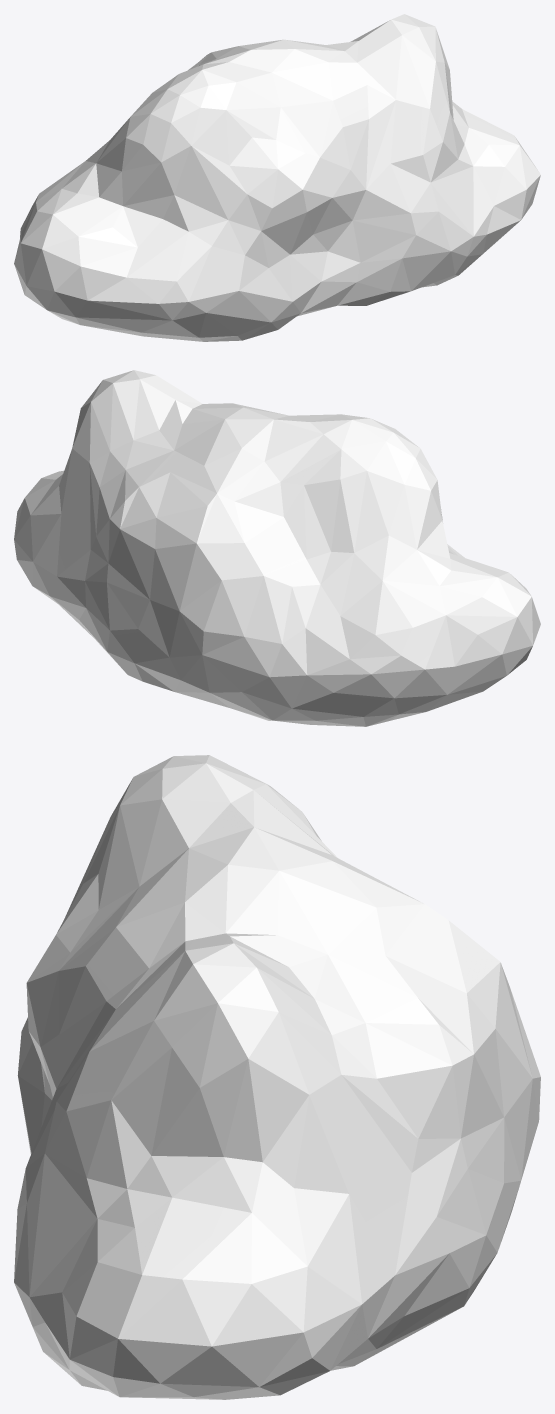
The model's file is Cloud_03.fbx.
3 renders of one model, top to bottom at view 1: azimuth 30°, elevation 25°; view 2: azimuth 150°, elevation 25°; view 3: azimuth 270°, elevation 25°, orthographic. The views are drawn at different scales.
Visible parts, largest first — view 1: Cloud_03; view 2: Cloud_03; view 3: Cloud_03.
Part boxes in pixels (box(x1,y1,x2,y2)): Cloud_03: box(14, 14, 540, 341); Cloud_03: box(14, 370, 540, 726); Cloud_03: box(14, 755, 540, 1399).
Size of the model in its own units: 4.33 by 2.1 by 2.2.
